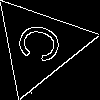C: (14, 20, 73, 70)
